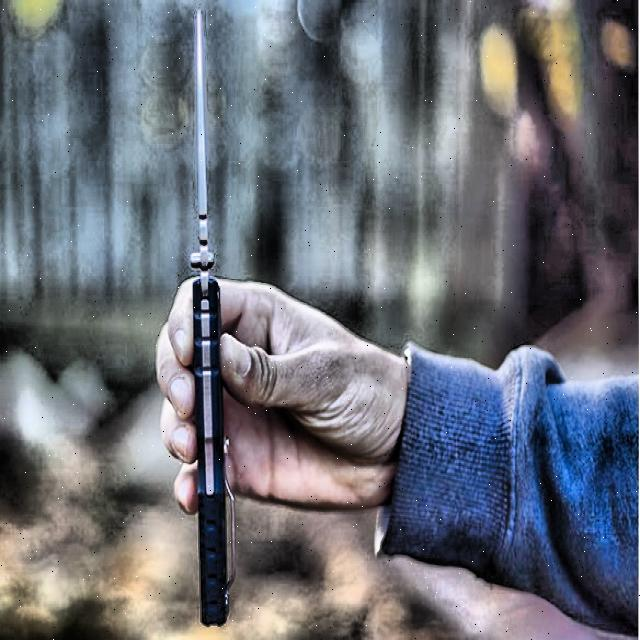knife: (192, 12, 235, 627)
